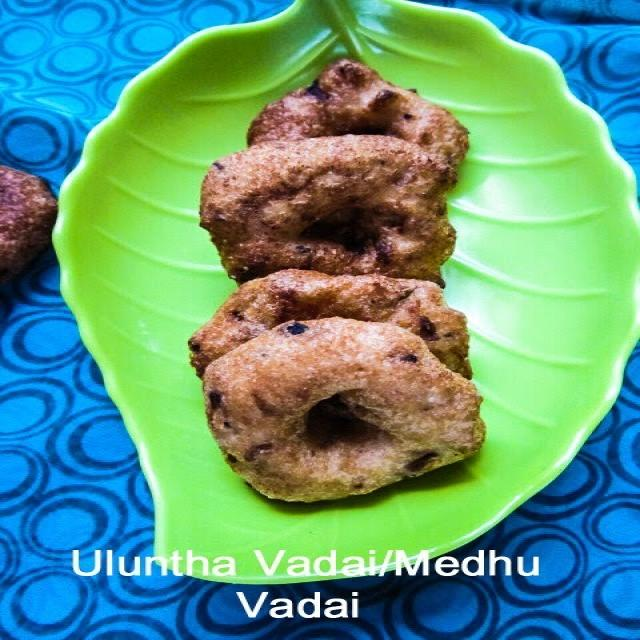medu vadai: (203, 318, 484, 501), (200, 134, 456, 283), (191, 270, 471, 377), (248, 59, 468, 167)
